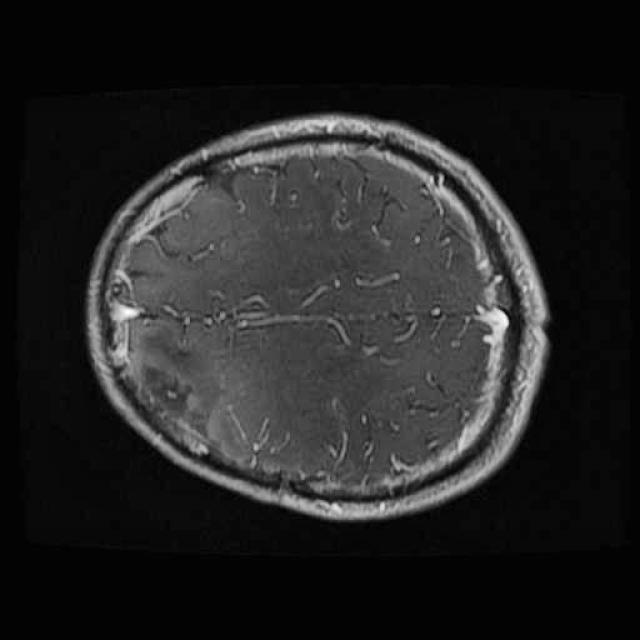Non-Tumor: (98, 304, 239, 474)
